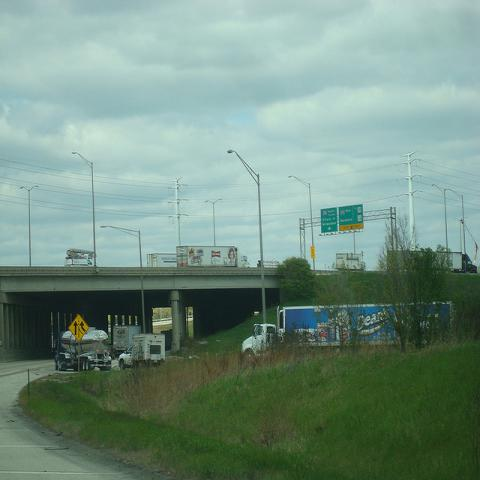truck: (240, 302, 458, 363), (54, 313, 112, 373), (113, 327, 168, 370), (177, 246, 248, 268), (451, 251, 478, 273), (113, 326, 140, 346), (147, 254, 178, 267)
